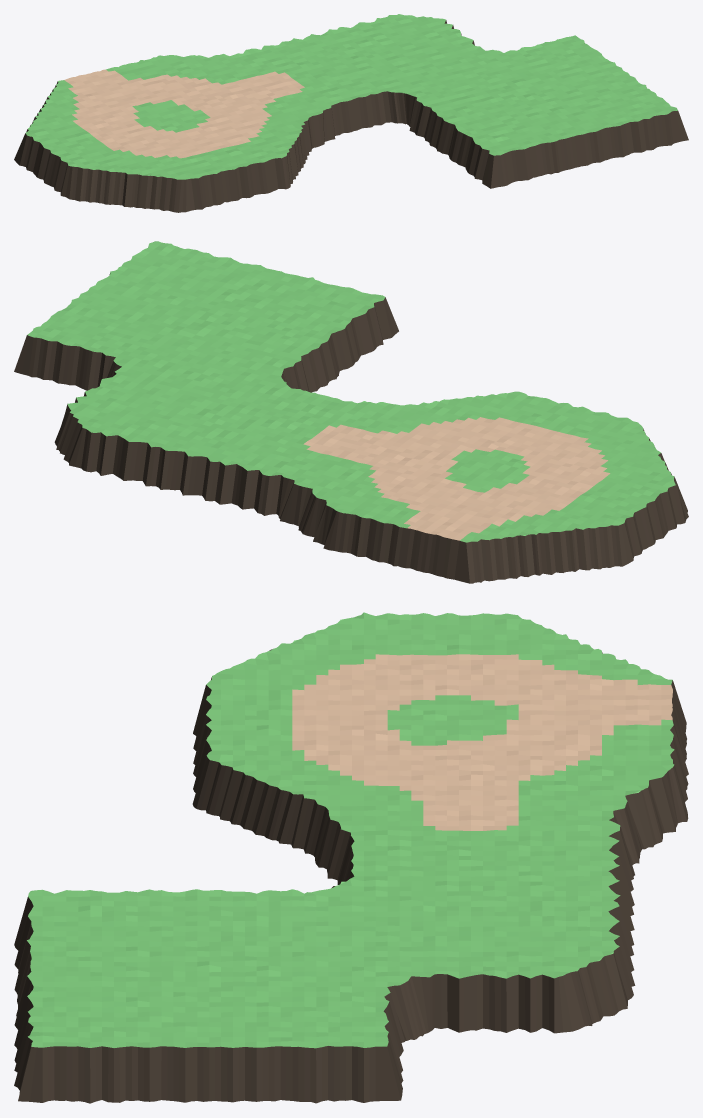
File: WorldSectionTwo.fbx
The picture shows the model from 3 angles, top to bottom: view 1: azimuth 30°, elevation 25°; view 2: azimuth 150°, elevation 25°; view 3: azimuth 270°, elevation 25°; orthographic projection. The views are drawn at different scales.
Parts seen in each view (by area): view 1: Plane.001; view 2: Plane.001; view 3: Plane.001.
Boxes of the visible parts, <box> form: Plane.001: <box>14,14,688,212</box>; Plane.001: <box>14,241,688,583</box>; Plane.001: <box>14,612,688,1103</box>.
Size of the model in its own units: 15703 by 844 by 10019.
